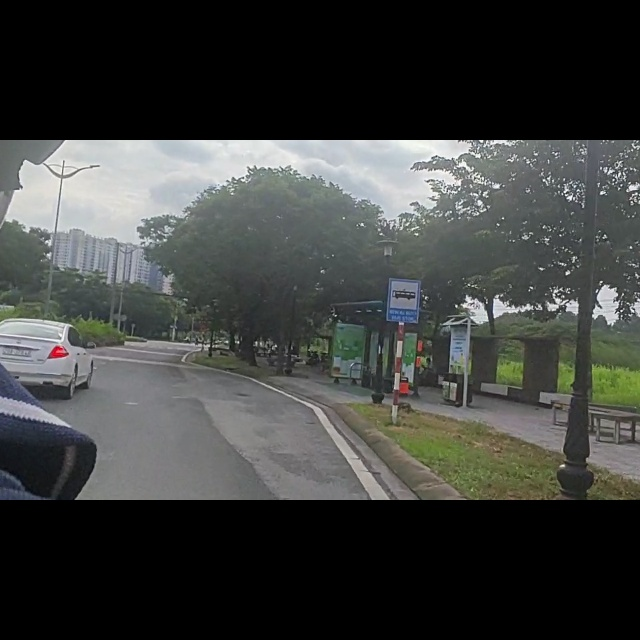bien_hieu_lenh: (383, 235, 428, 337)
